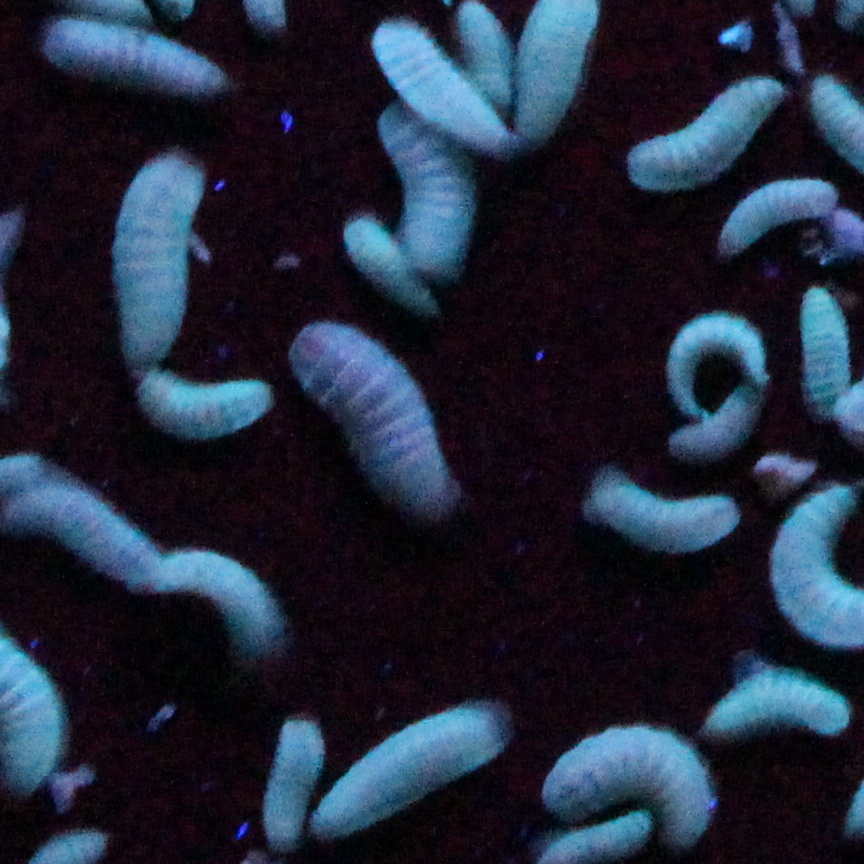larve: (283, 312, 462, 525), (311, 703, 509, 843), (366, 13, 514, 155), (113, 147, 205, 368), (621, 77, 786, 191), (377, 97, 470, 280), (578, 459, 740, 558), (156, 547, 289, 659), (47, 20, 228, 100), (700, 647, 849, 738), (663, 315, 770, 417), (138, 367, 271, 439), (348, 213, 437, 317), (728, 180, 834, 266), (262, 716, 320, 848), (803, 280, 850, 422), (672, 391, 770, 457), (754, 451, 819, 484)
